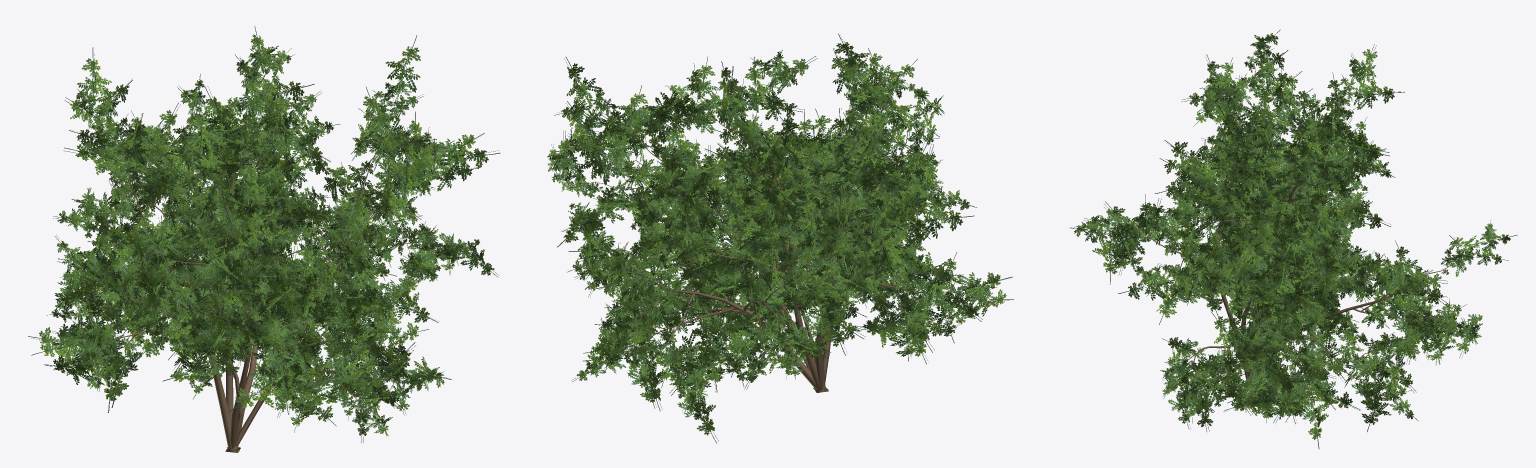
File: shrub.glb
The picture shows the model from 3 angles, left to right: view 1: azimuth 30°, elevation 25°; view 2: azimuth 150°, elevation 25°; view 3: azimuth 270°, elevation 25°; orthographic projection. The views are drawn at different scales.
Parts seen in each view (by area): view 1: leaves, branches; view 2: leaves, branches; view 3: leaves, branches.
Part boxes in pixels (<box>): leaves: <box>28,26,499,442</box>; branches: <box>74,74,436,452</box>; leaves: <box>547,33,1013,443</box>; branches: <box>556,73,973,392</box>; leaves: <box>1069,29,1517,448</box>; branches: <box>1103,52,1478,406</box>.
Bounding box in the file's own units: 1.48 × 1.2 × 1.44.
Materials: 2 (1 with a texture image).
